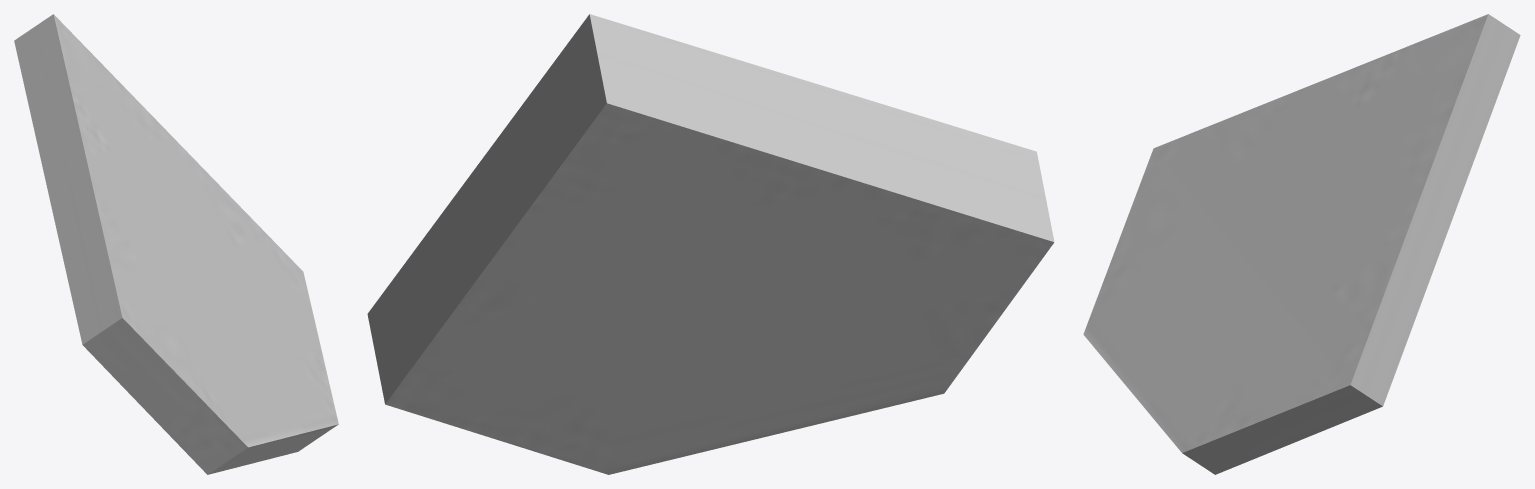
The model's file is zhizhen.FBX.
3 renders of one model, left to right at view 1: azimuth 30°, elevation 25°; view 2: azimuth 150°, elevation 25°; view 3: azimuth 270°, elevation 25°, orthographic. The views are drawn at different scales.
Visible parts, largest first — view 1: zhizhen; view 2: zhizhen; view 3: zhizhen.
Boxes of the visible parts, x1,y1,x2,y2 form: zhizhen: [14, 14, 338, 474]; zhizhen: [367, 14, 1054, 474]; zhizhen: [1083, 14, 1520, 474].
Size of the model in its own units: 112 by 135 by 133.
Materials: 1 (1 with a texture image).
